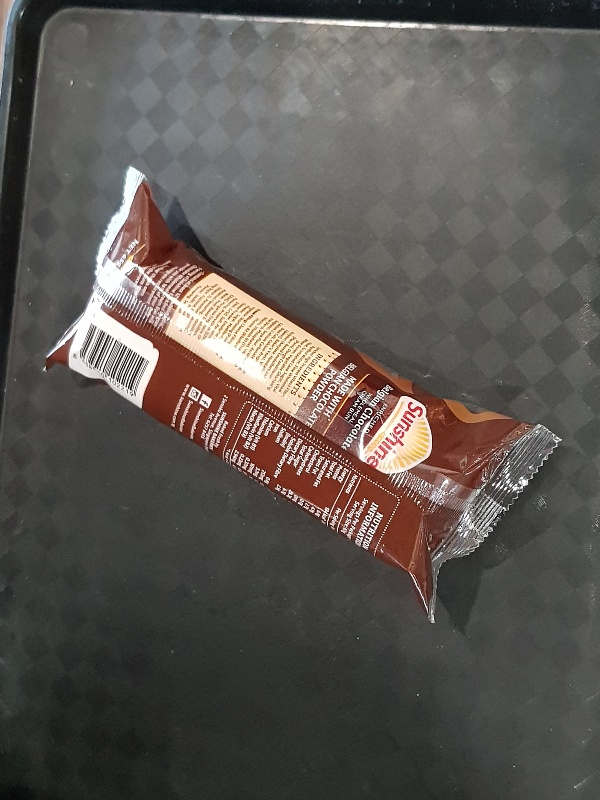Sunshine Belgium Chocolate Wholemeal Cream Bun: (41, 163, 564, 626)
